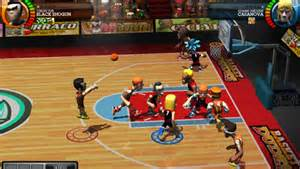basketball: (110, 52, 118, 61)
